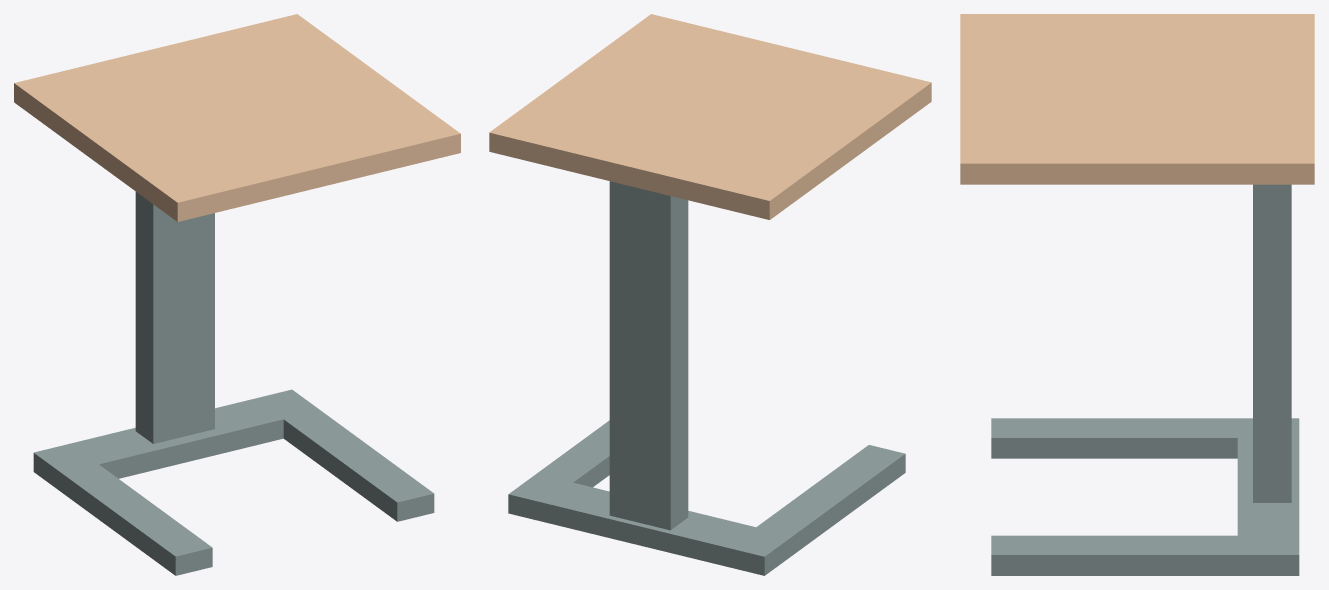
File: sideCTable.glb
3 views of the same model, side by side, from view 1: azimuth 30°, elevation 25°; view 2: azimuth 150°, elevation 25°; view 3: azimuth 270°, elevation 25° (orthographic). The views are drawn at different scales.
Parts seen in each view (by area): view 1: sideCTable; view 2: sideCTable; view 3: sideCTable.
Boxes of the visible parts, x1,y1,x2,y2 form: sideCTable: (14, 14, 460, 575); sideCTable: (489, 14, 931, 575); sideCTable: (960, 14, 1314, 575).
Bounding box in the file's own units: 0.23 × 0.3 × 0.23.
